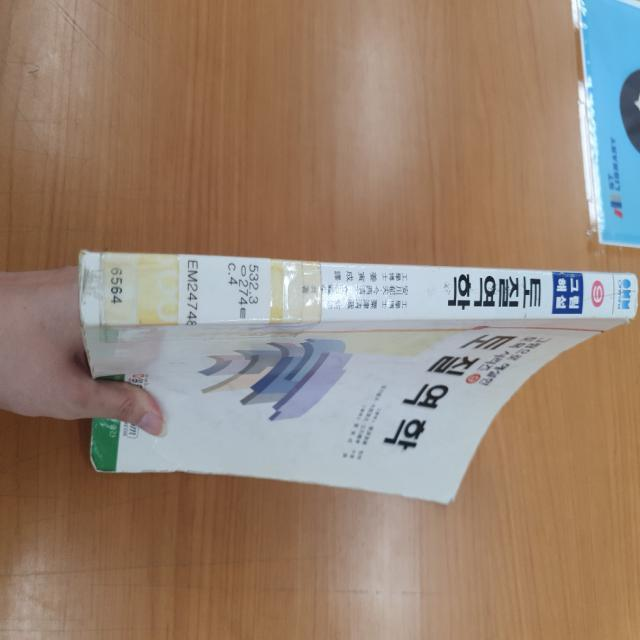Ripped: (621, 316, 636, 326)
Wornout: (87, 423, 120, 476), (75, 246, 86, 330), (140, 463, 208, 475), (79, 329, 95, 377), (631, 271, 639, 318)
